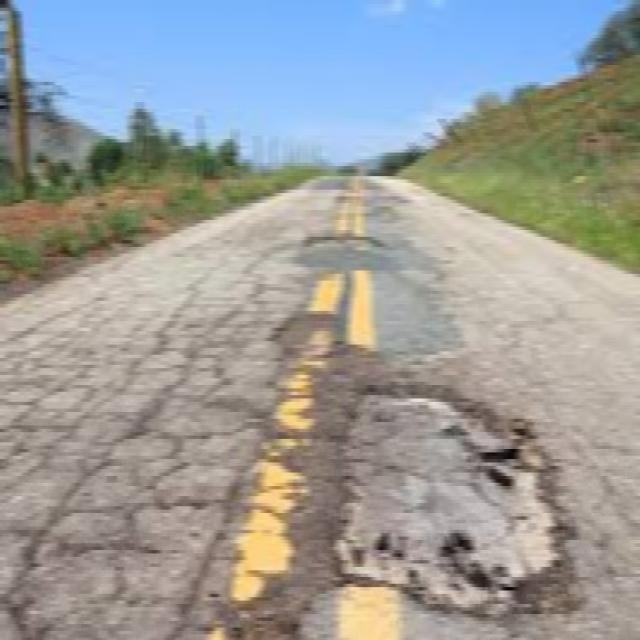Pothole: (316, 370, 562, 628), (265, 301, 330, 362), (294, 223, 385, 253)
